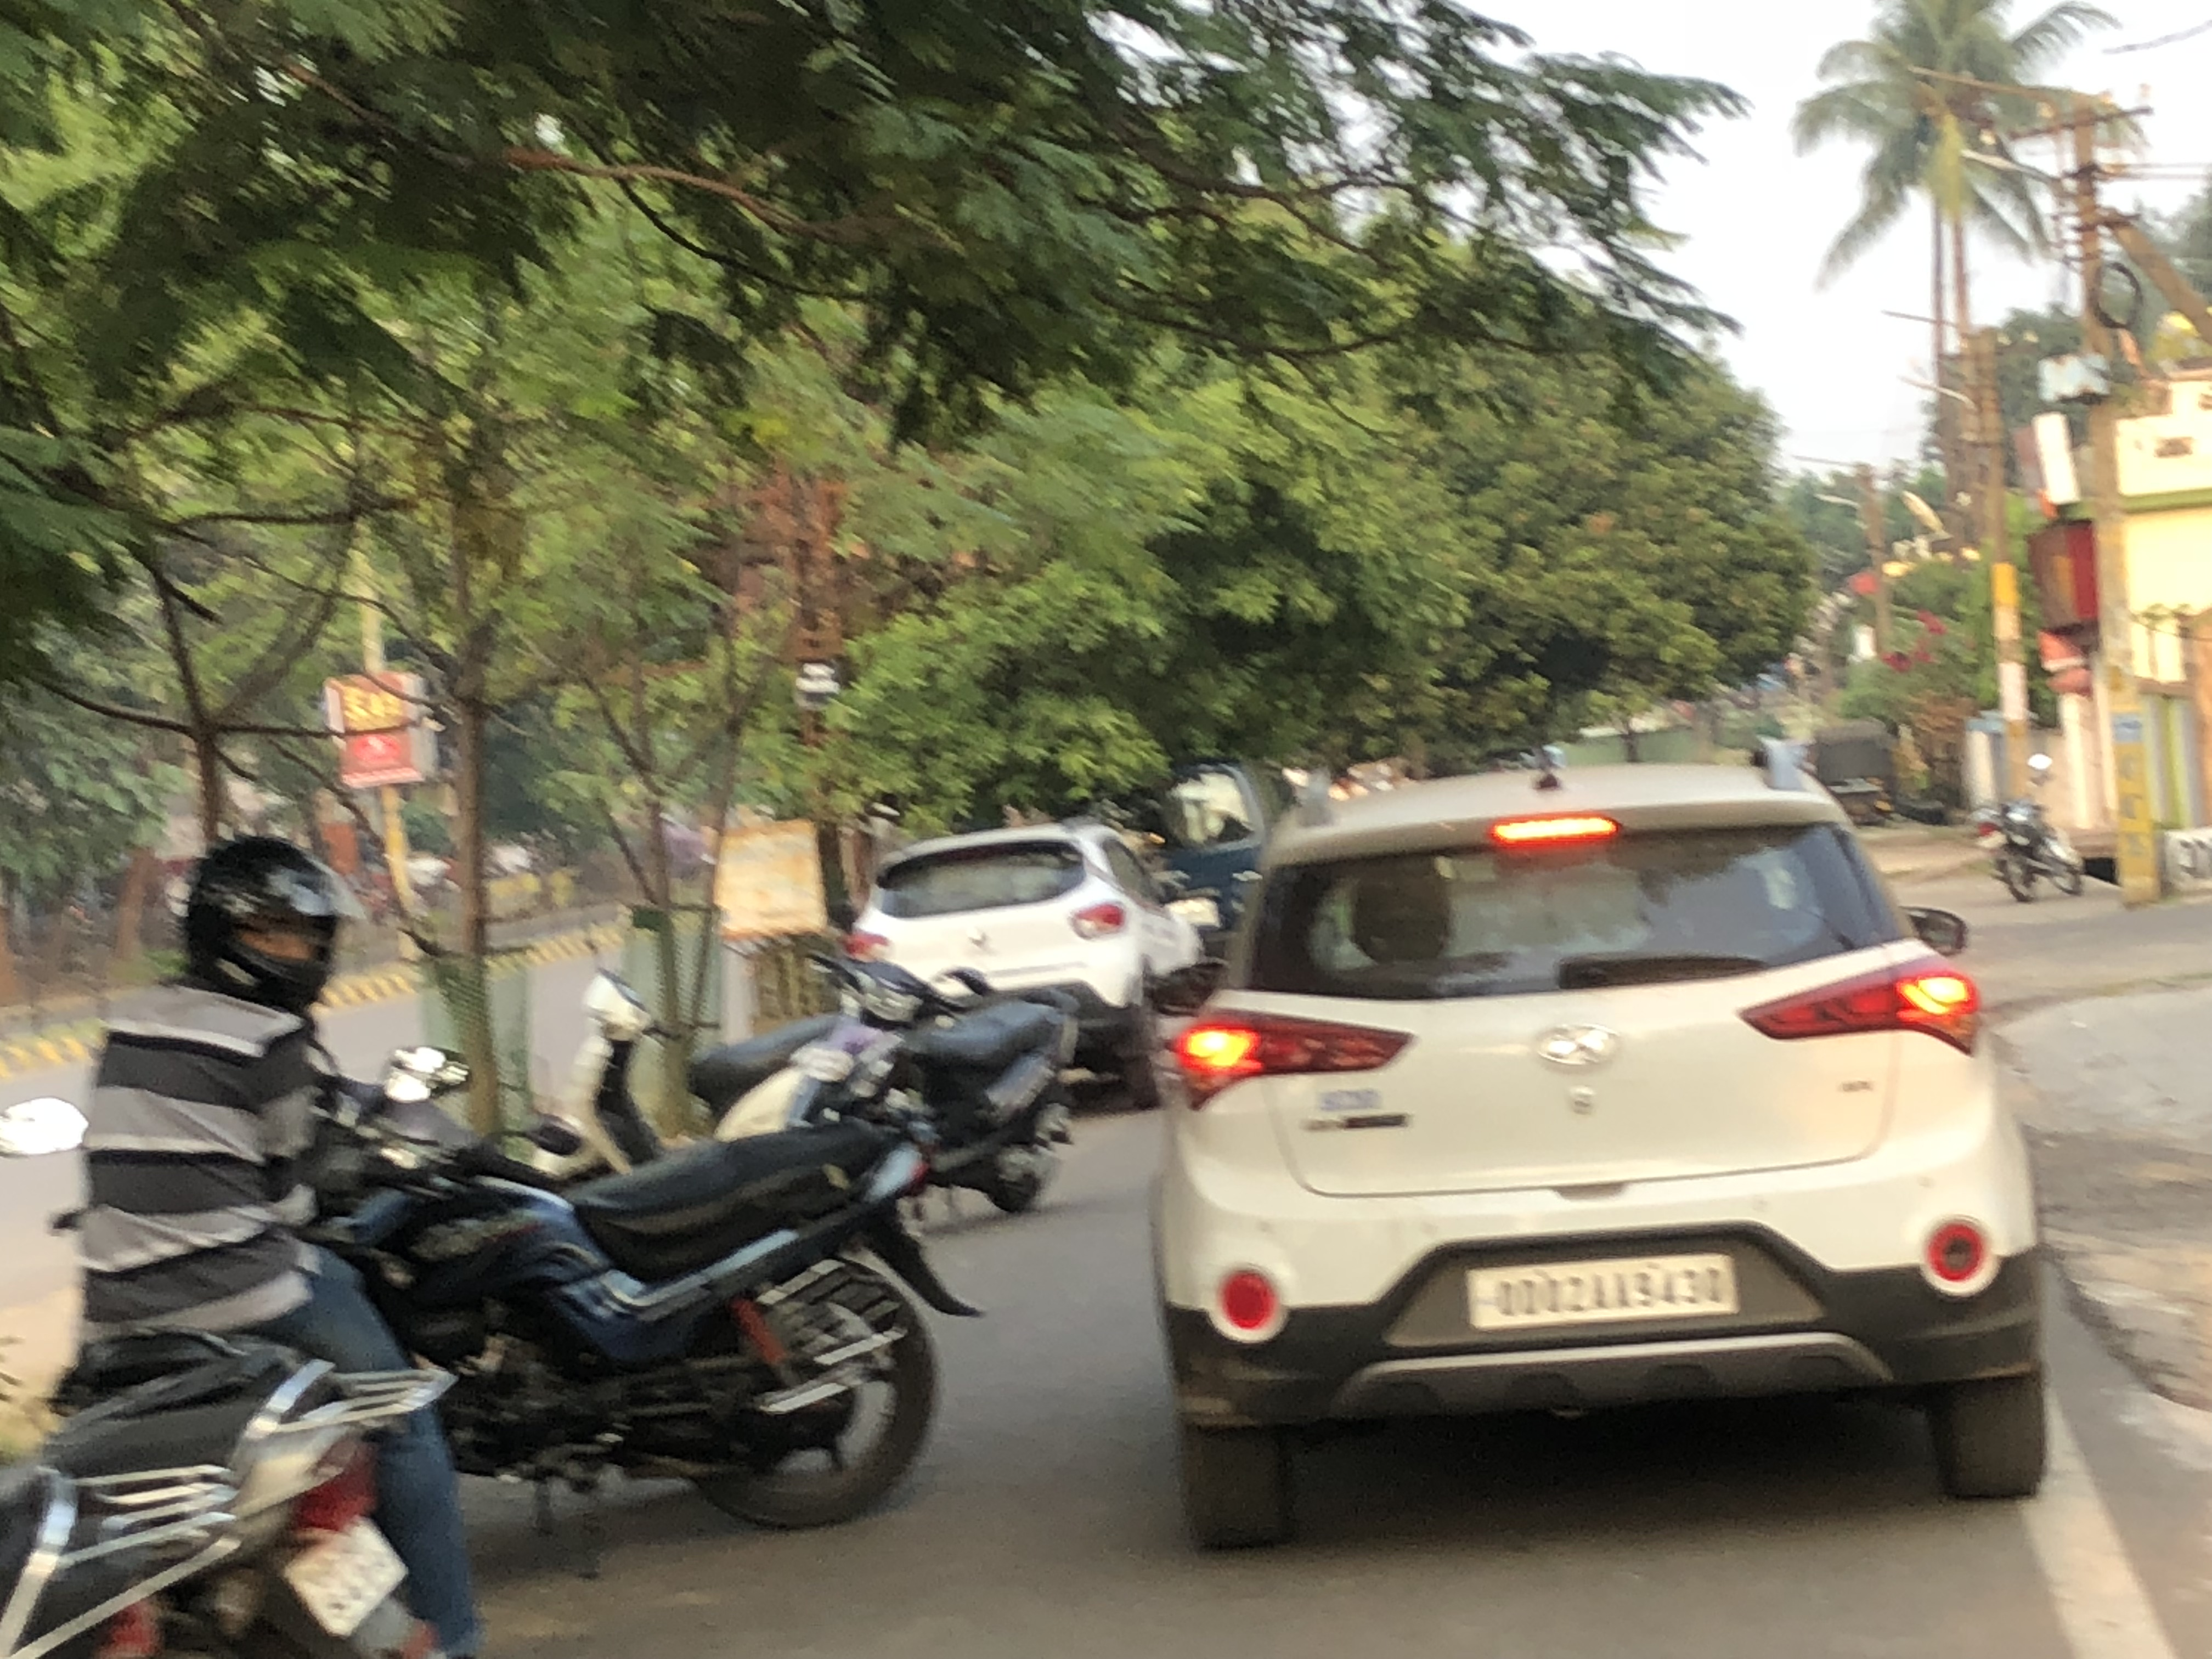licenseplate: (1457, 1245, 1755, 1355)
